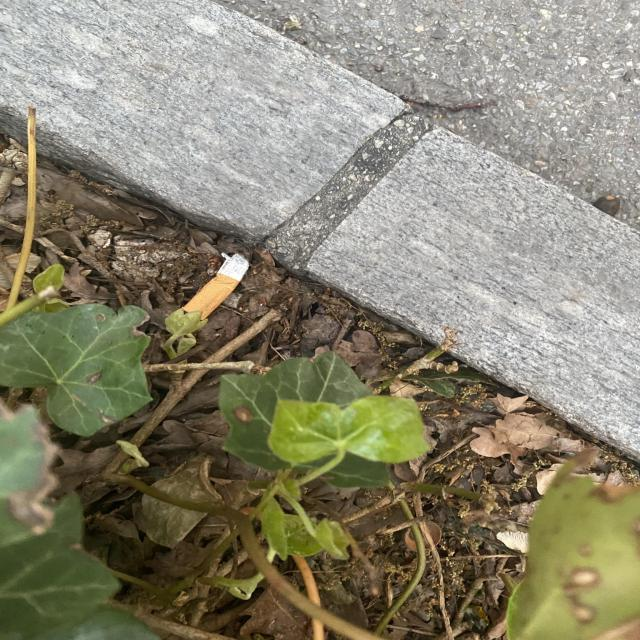other waste: (181, 254, 249, 322)
